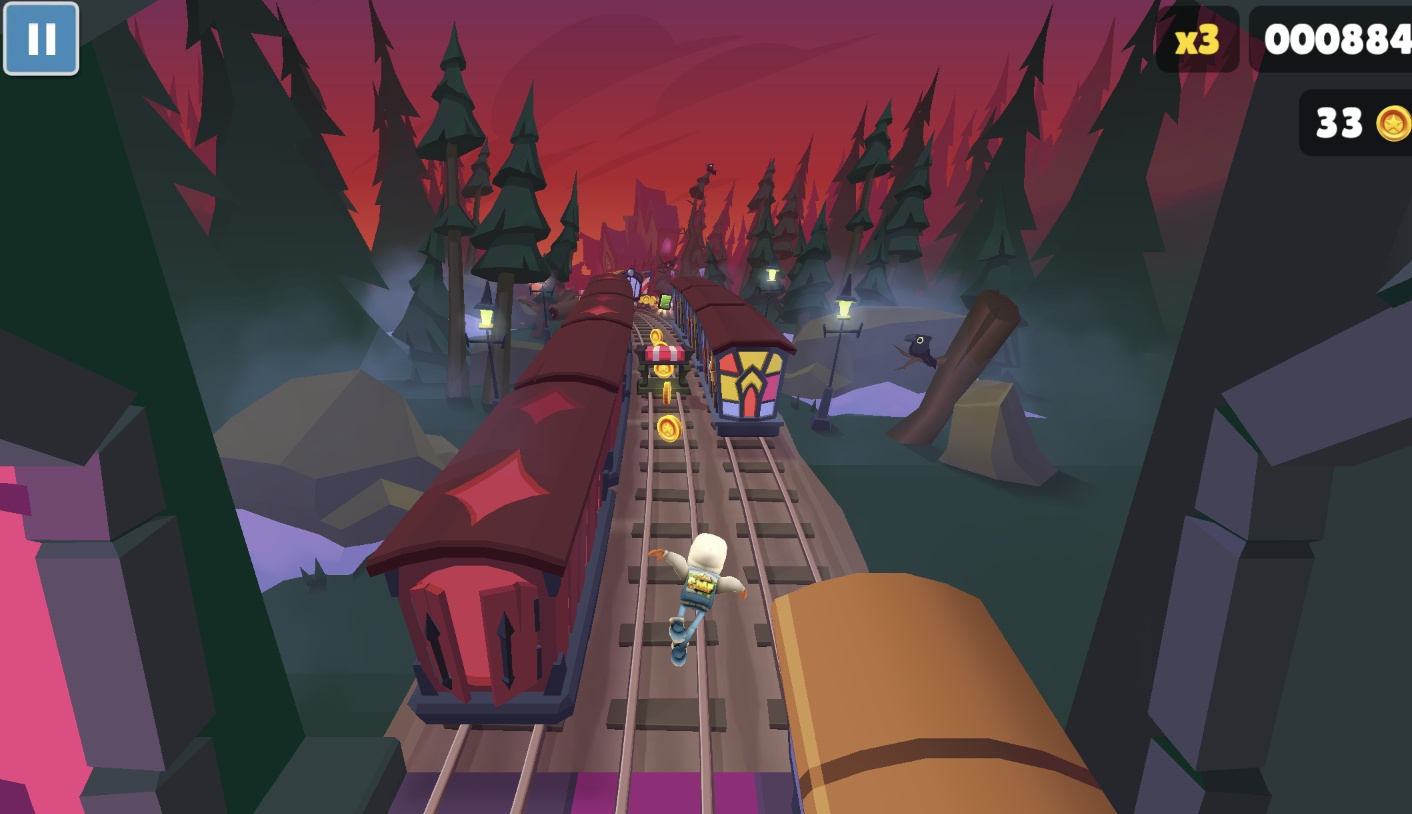ground_barrier: (636, 343, 690, 395)
overhead_barrier: (641, 270, 653, 296)
train: (352, 273, 633, 719), (759, 576, 1110, 814), (665, 275, 796, 436), (621, 268, 650, 302)
